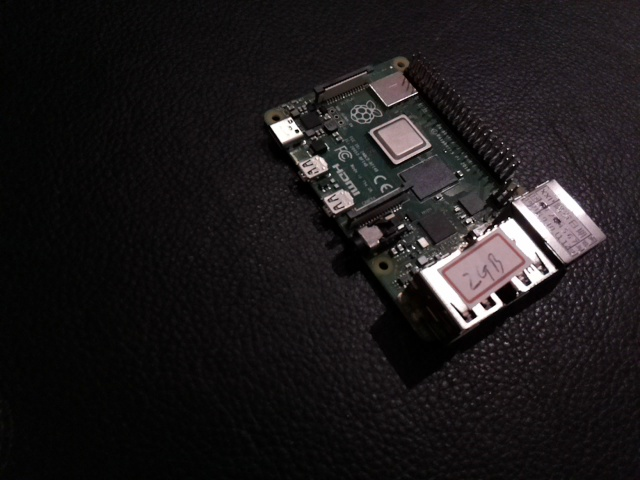pi4: (256, 39, 608, 391)
